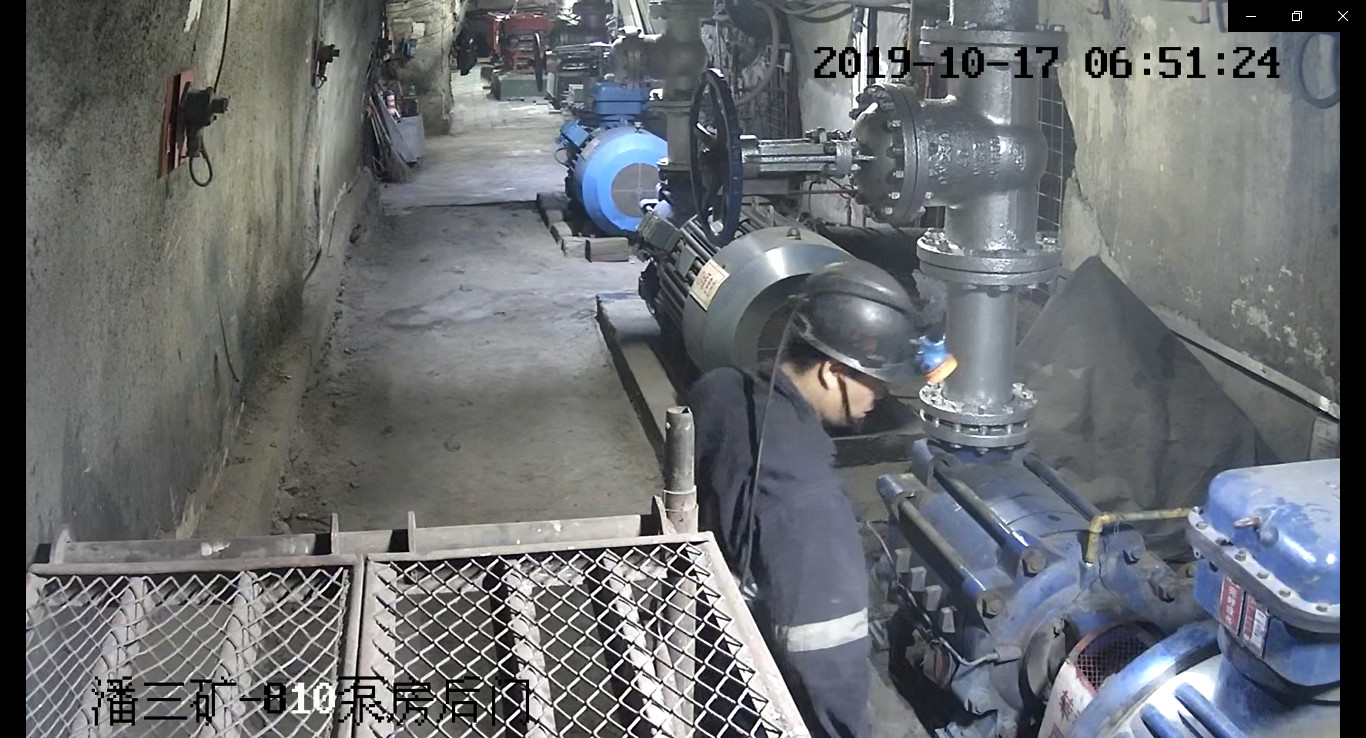helmet: (772, 255, 964, 384)
